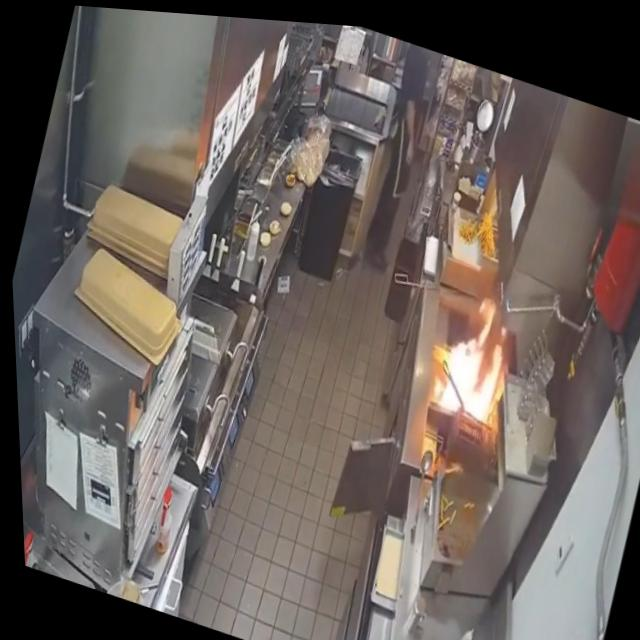fire: (415, 263, 527, 426)
